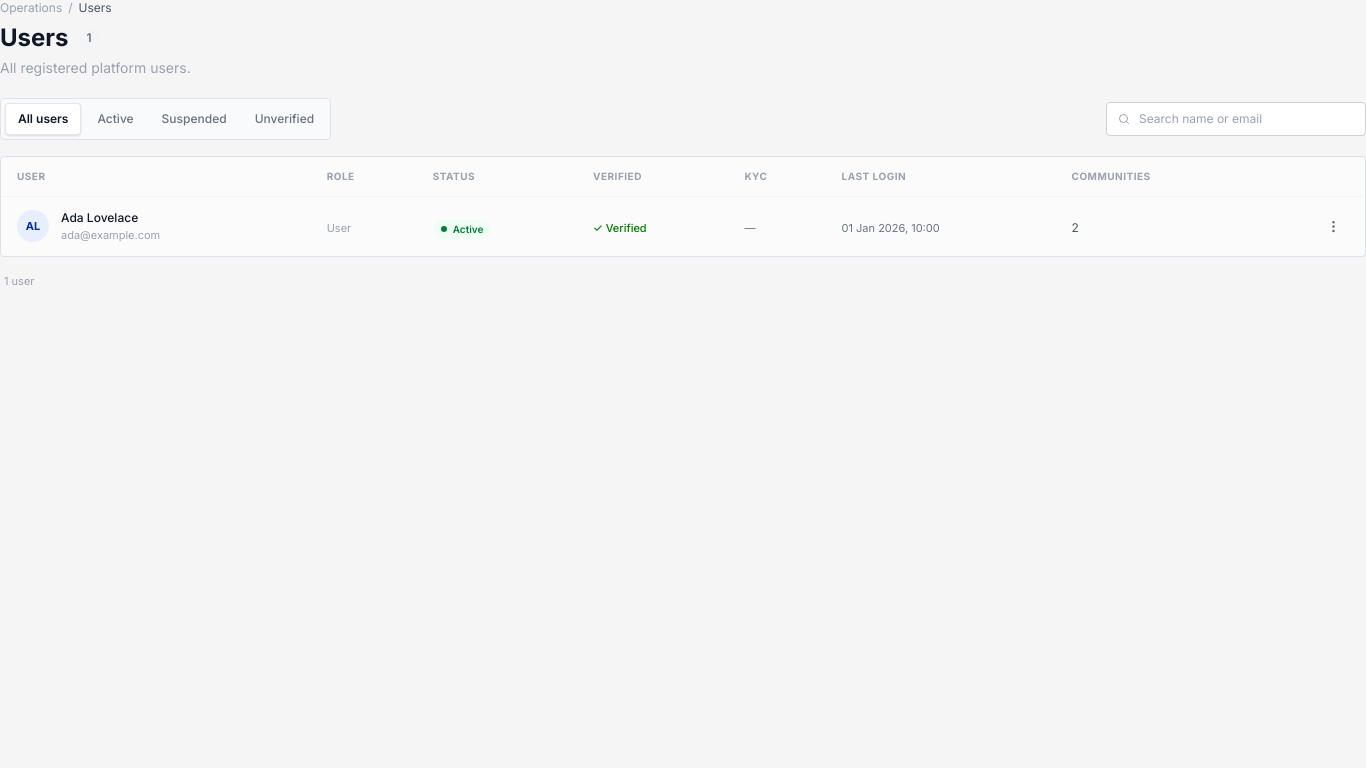
Test case: UsersSection — details › handles an empty user response
Click the text "ada@example.com": (33, 226) [1,196,1365,256]
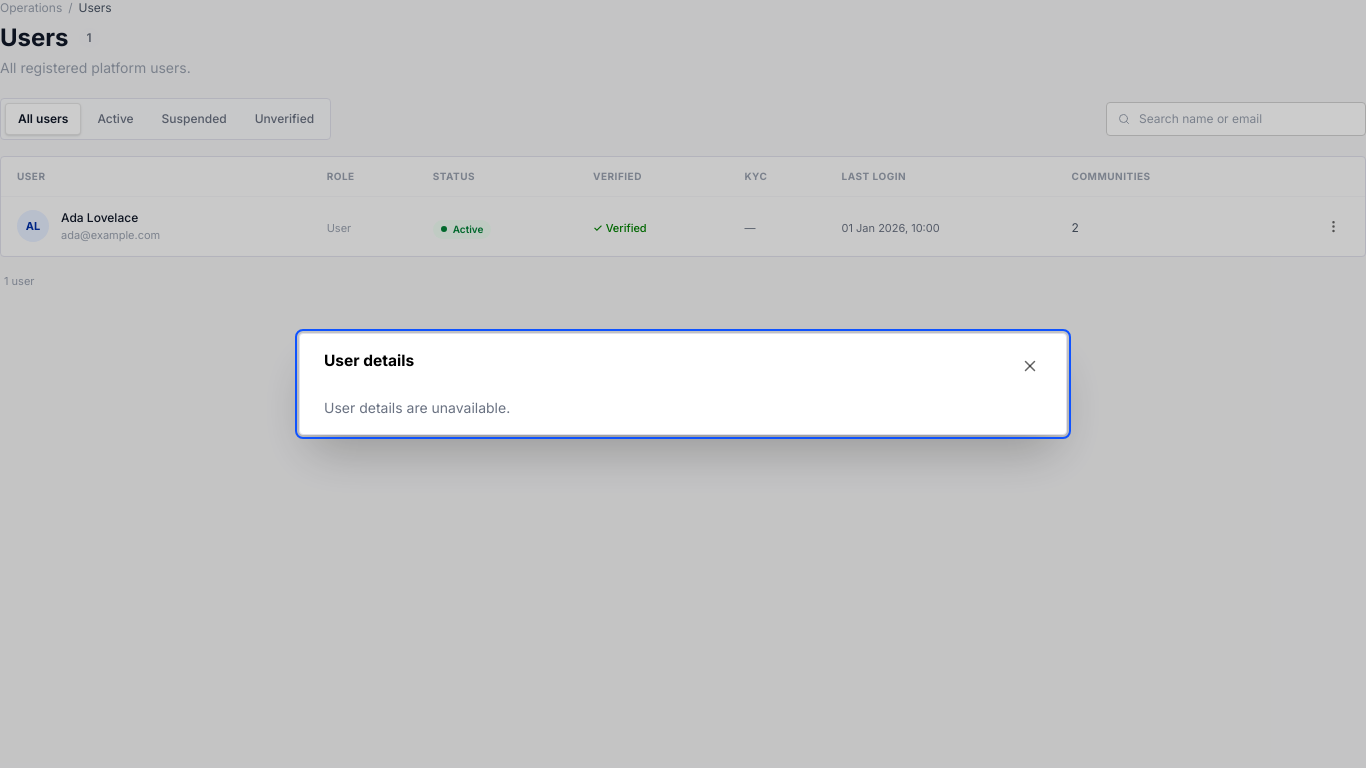
Expected: the text "User details are unavailable." is shown, [324,399,510,416]
